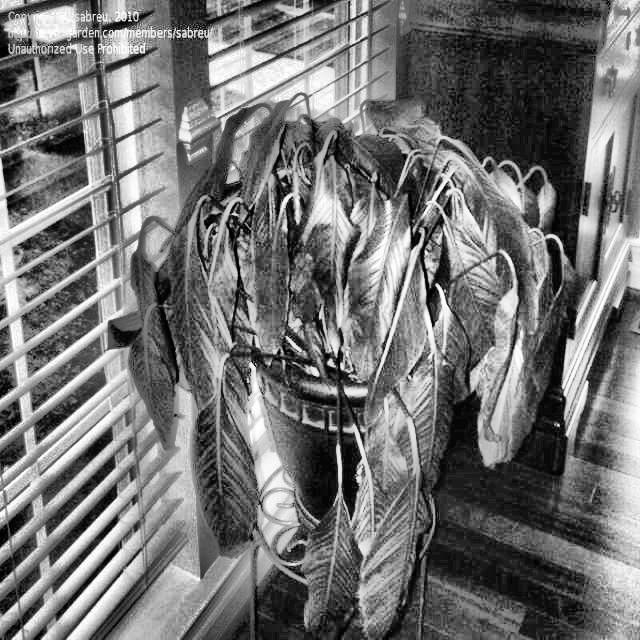plants: (106, 88, 573, 639)
